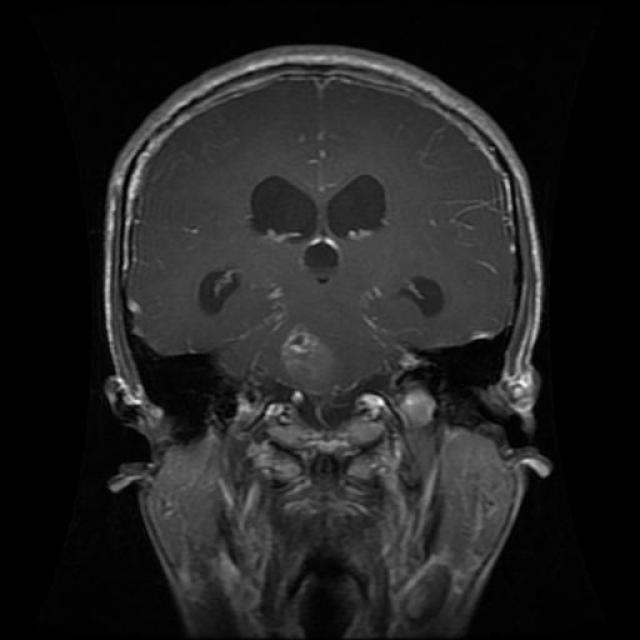glioma: (234, 147, 330, 247)
